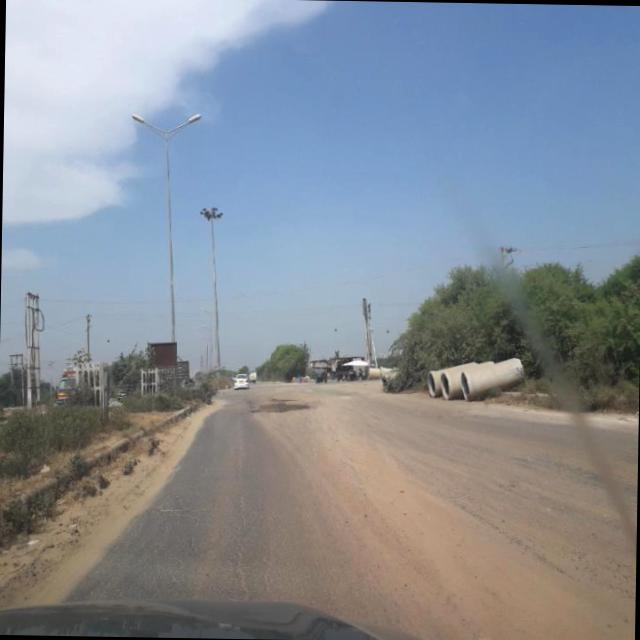pothole: (226, 418, 262, 592)
